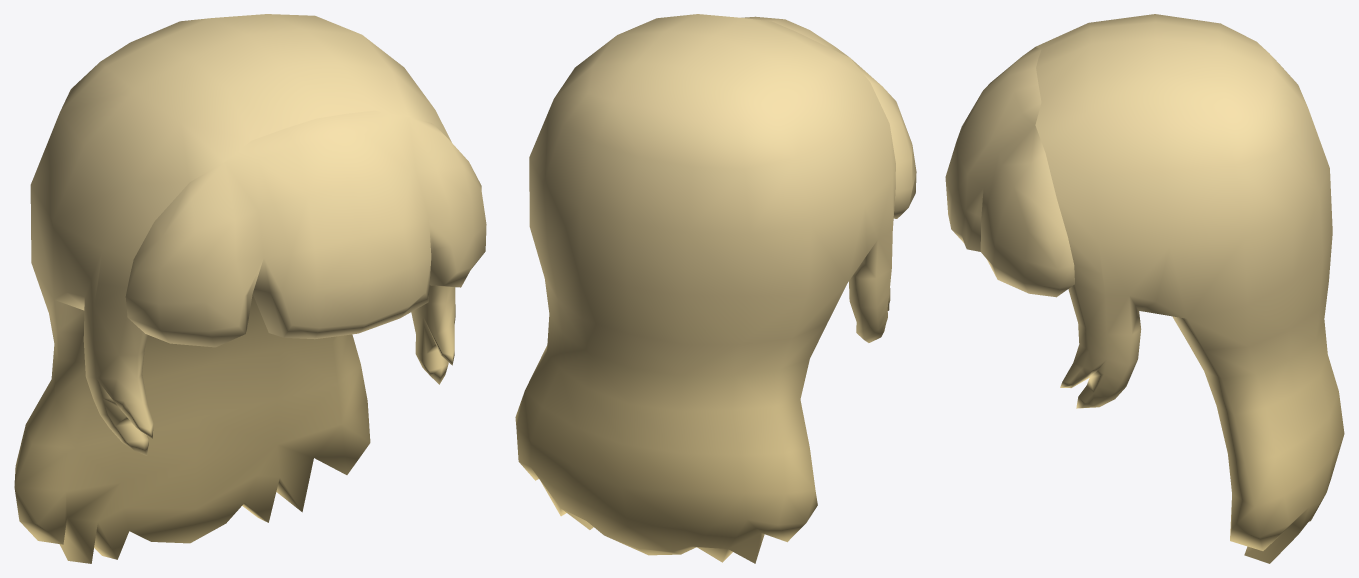
File: hair04.fbx
3 views of the same model, side by side, from view 1: azimuth 30°, elevation 25°; view 2: azimuth 150°, elevation 25°; view 3: azimuth 270°, elevation 25° (orthographic). The views are drawn at different scales.
Visible parts, largest first — view 1: HairFemale_2; view 2: HairFemale_2; view 3: HairFemale_2.
Boxes of the visible parts, x1,y1,x2,y2 form: HairFemale_2: (14, 14, 486, 563); HairFemale_2: (515, 14, 916, 563); HairFemale_2: (945, 14, 1344, 563).
Bounding box in the file's own units: 69.64 × 98.92 × 73.83.
